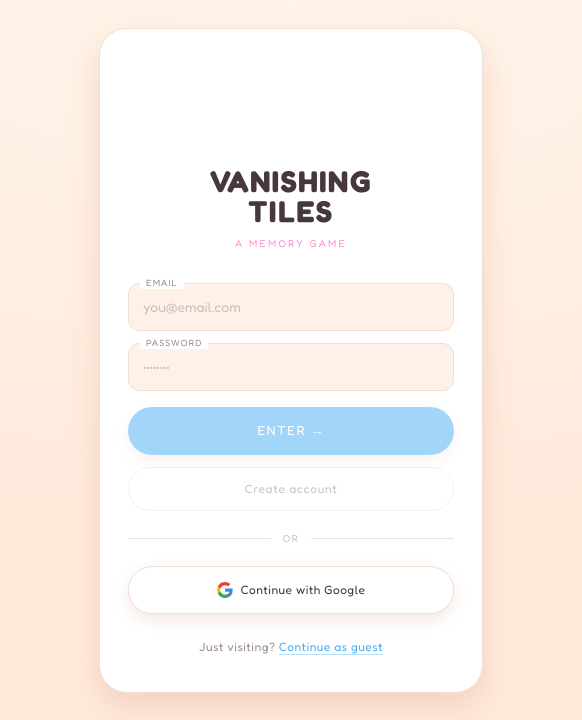
Scenario: AuthScreen › shows an inline error when a provider sign-in fails
Step 1. Click the button "Continue with Google" → (291,590), box [128,566,454,614]
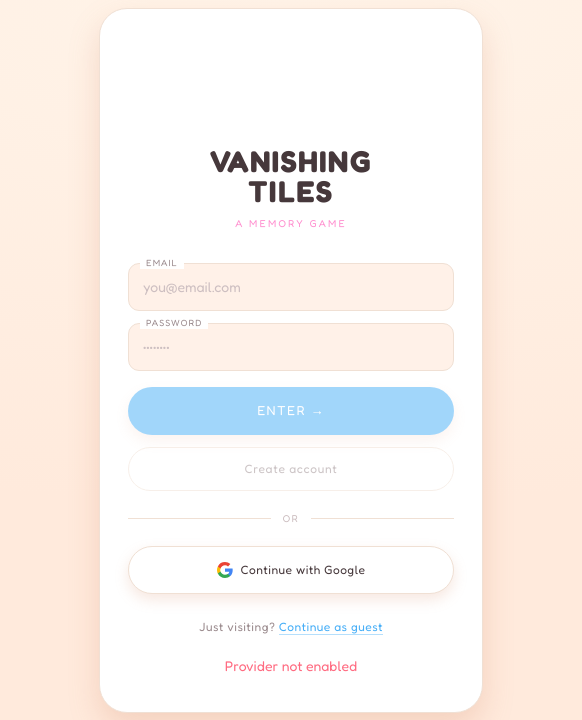
Now the text "Provider not enabled" is shown, box [225,656,357,674]
